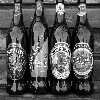beer: (6, 1, 31, 94)
